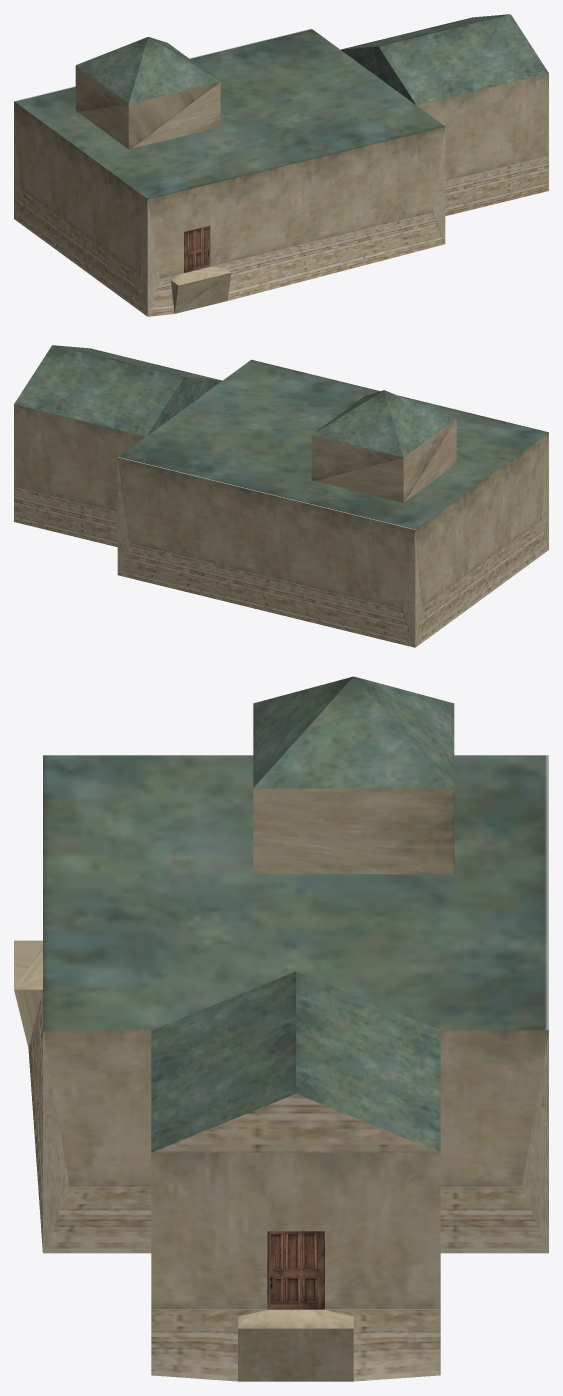
File: thm_nboo_farmhouse_s01_l2.fbx
3 views of the same model, one above another, from view 1: azimuth 30°, elevation 25°; view 2: azimuth 150°, elevation 25°; view 3: azimuth 270°, elevation 25° (orthographic). The views are drawn at different scales.
Visible parts, largest first — view 1: mesh_node; view 2: mesh_node; view 3: mesh_node.
Boxes of the visible parts, x1,y1,x2,y2 form: mesh_node: (14, 14, 548, 316); mesh_node: (14, 345, 548, 647); mesh_node: (14, 676, 548, 1381).
Bounding box in the file's own units: 33.5 × 14.43 × 18.5.
Materials: 1 (1 with a texture image).
